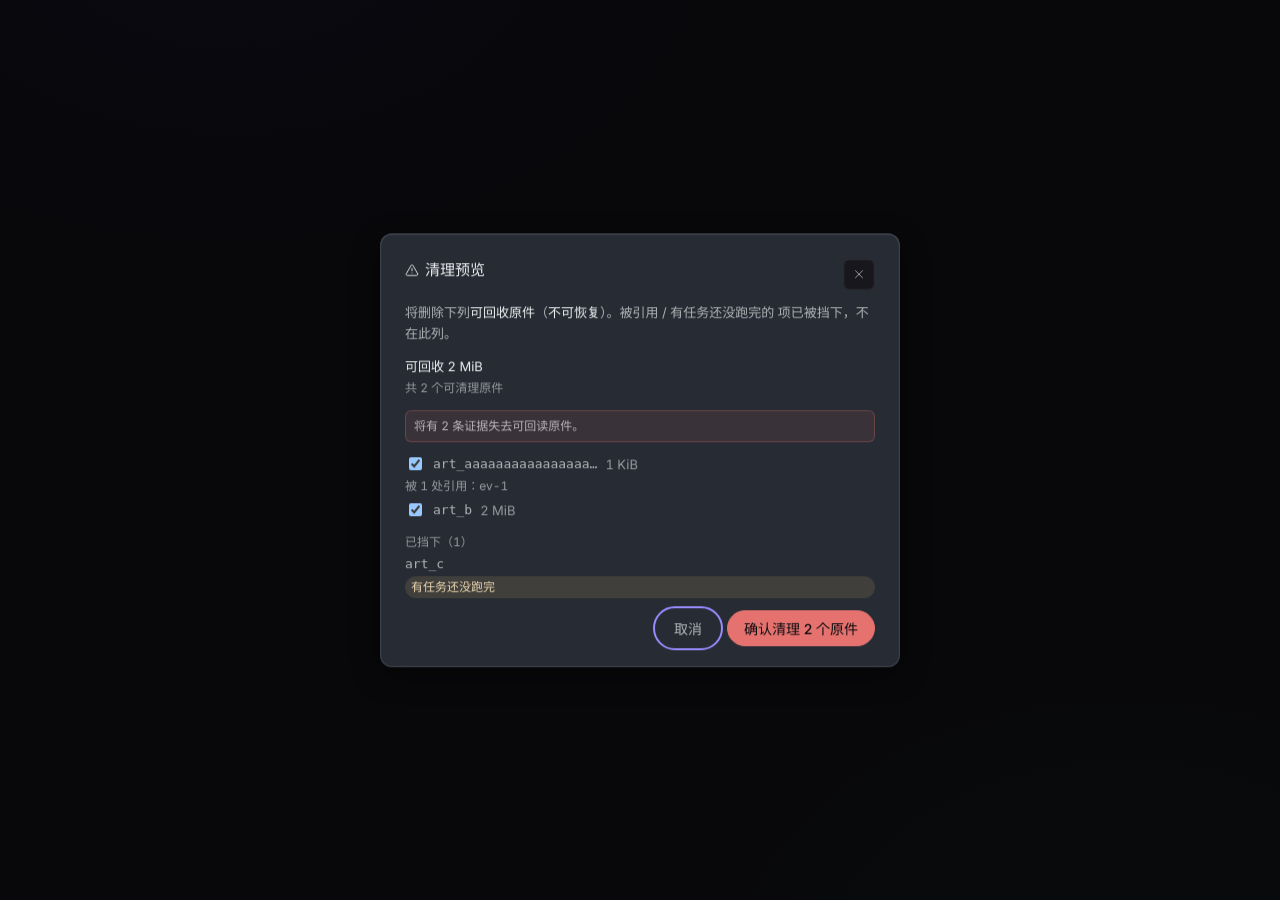
Test case: #368 CleanupPreviewDialog › 确认失败（如 409 快照过期）→ 错误留在浮层，不伪装成功
Click the button "确认清理 2 个原件".
click(801, 628)  # box [727, 610, 875, 646]
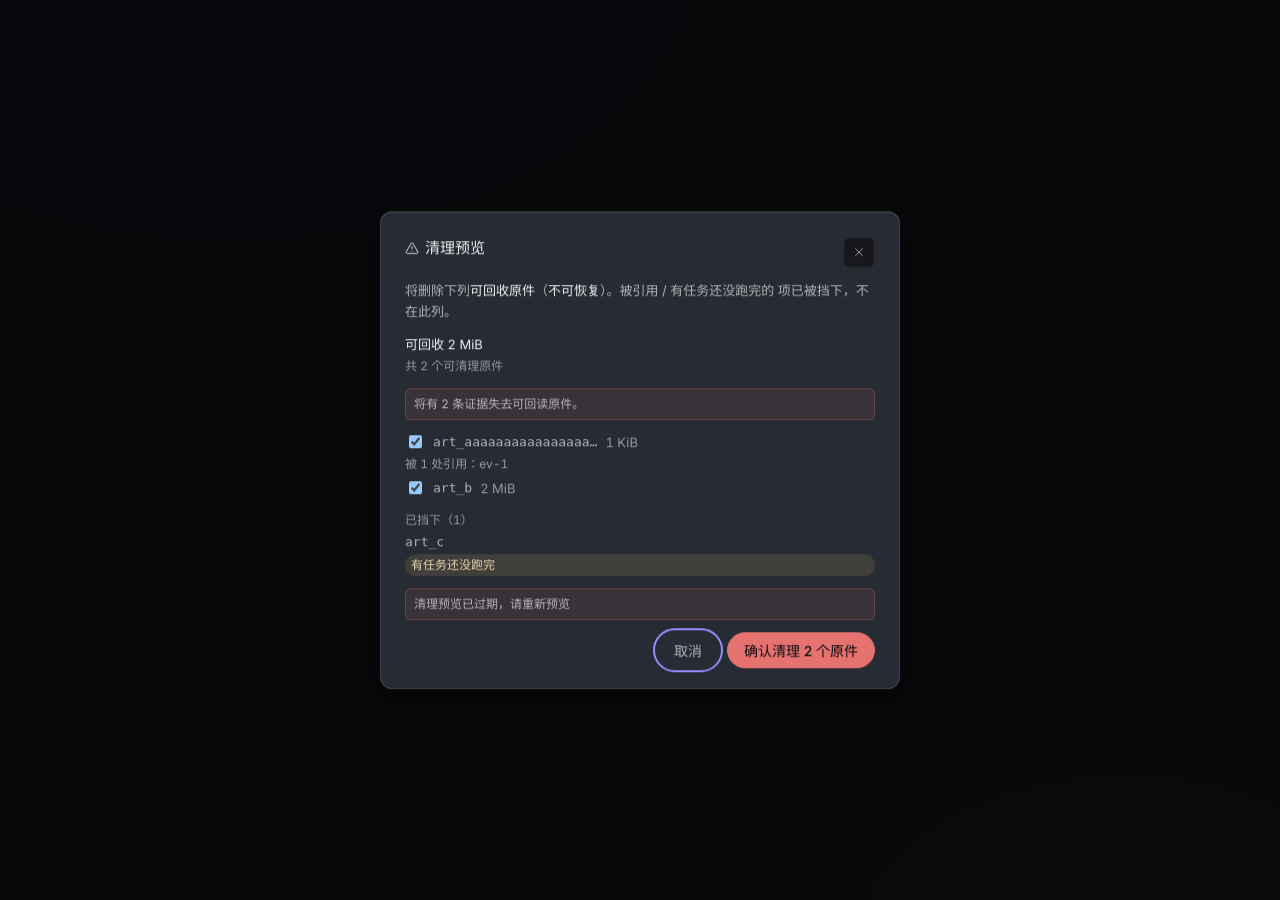
Result: the text "清理预览已过期，请重新预览" is shown at [405, 588, 875, 620]
